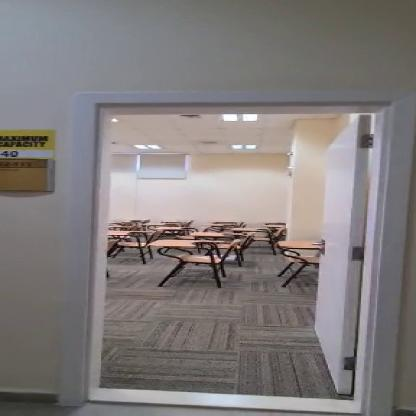open: (58, 81, 416, 416)
